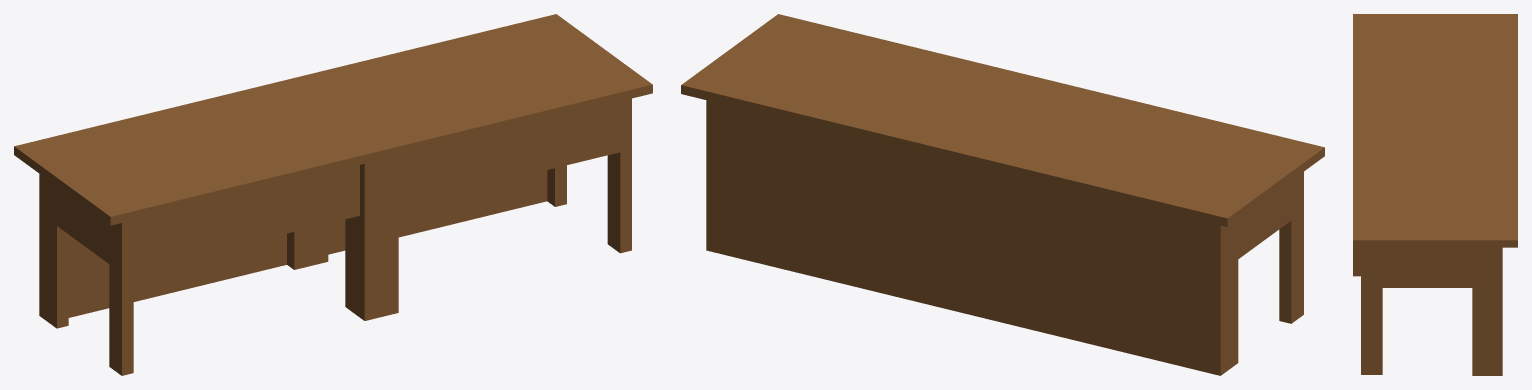
The picture shows the model from 3 angles, left to right: view 1: azimuth 30°, elevation 25°; view 2: azimuth 150°, elevation 25°; view 3: azimuth 270°, elevation 25°; orthographic projection. The views are drawn at different scales.
Visible parts, largest first — view 1: Cube.001; view 2: Cube.001; view 3: Cube.001.
Boxes of the visible parts, <box> form: Cube.001: <box>14,14,652,375</box>; Cube.001: <box>681,14,1324,375</box>; Cube.001: <box>1353,14,1517,375</box>.
Size of the model in its own units: 1826 by 536 by 562.
